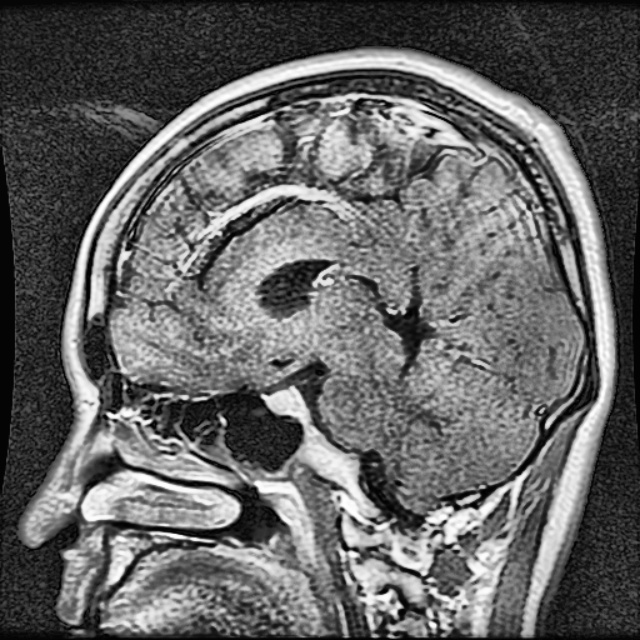Pituitary: (264, 389, 309, 420)
